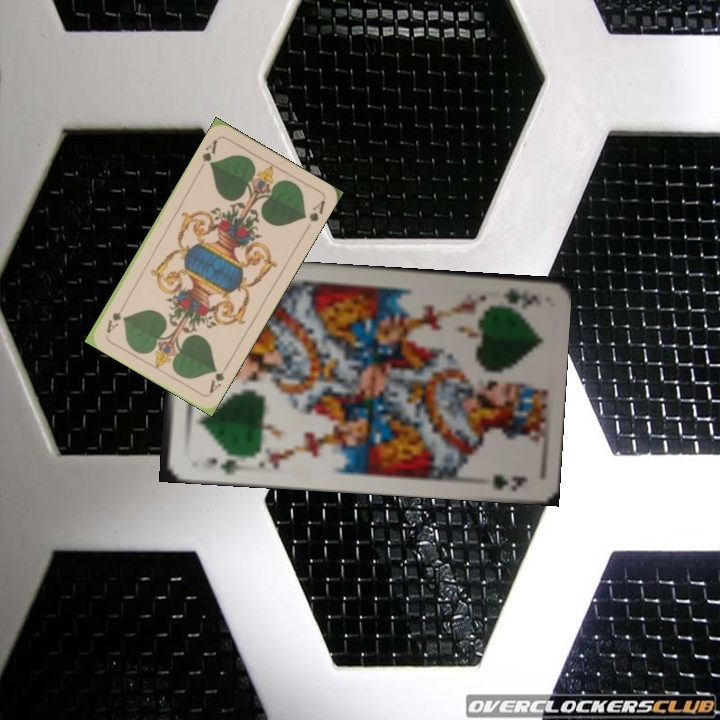GA: (205, 360, 231, 396), (196, 135, 220, 172)
GK: (200, 450, 245, 477), (499, 285, 540, 308)
